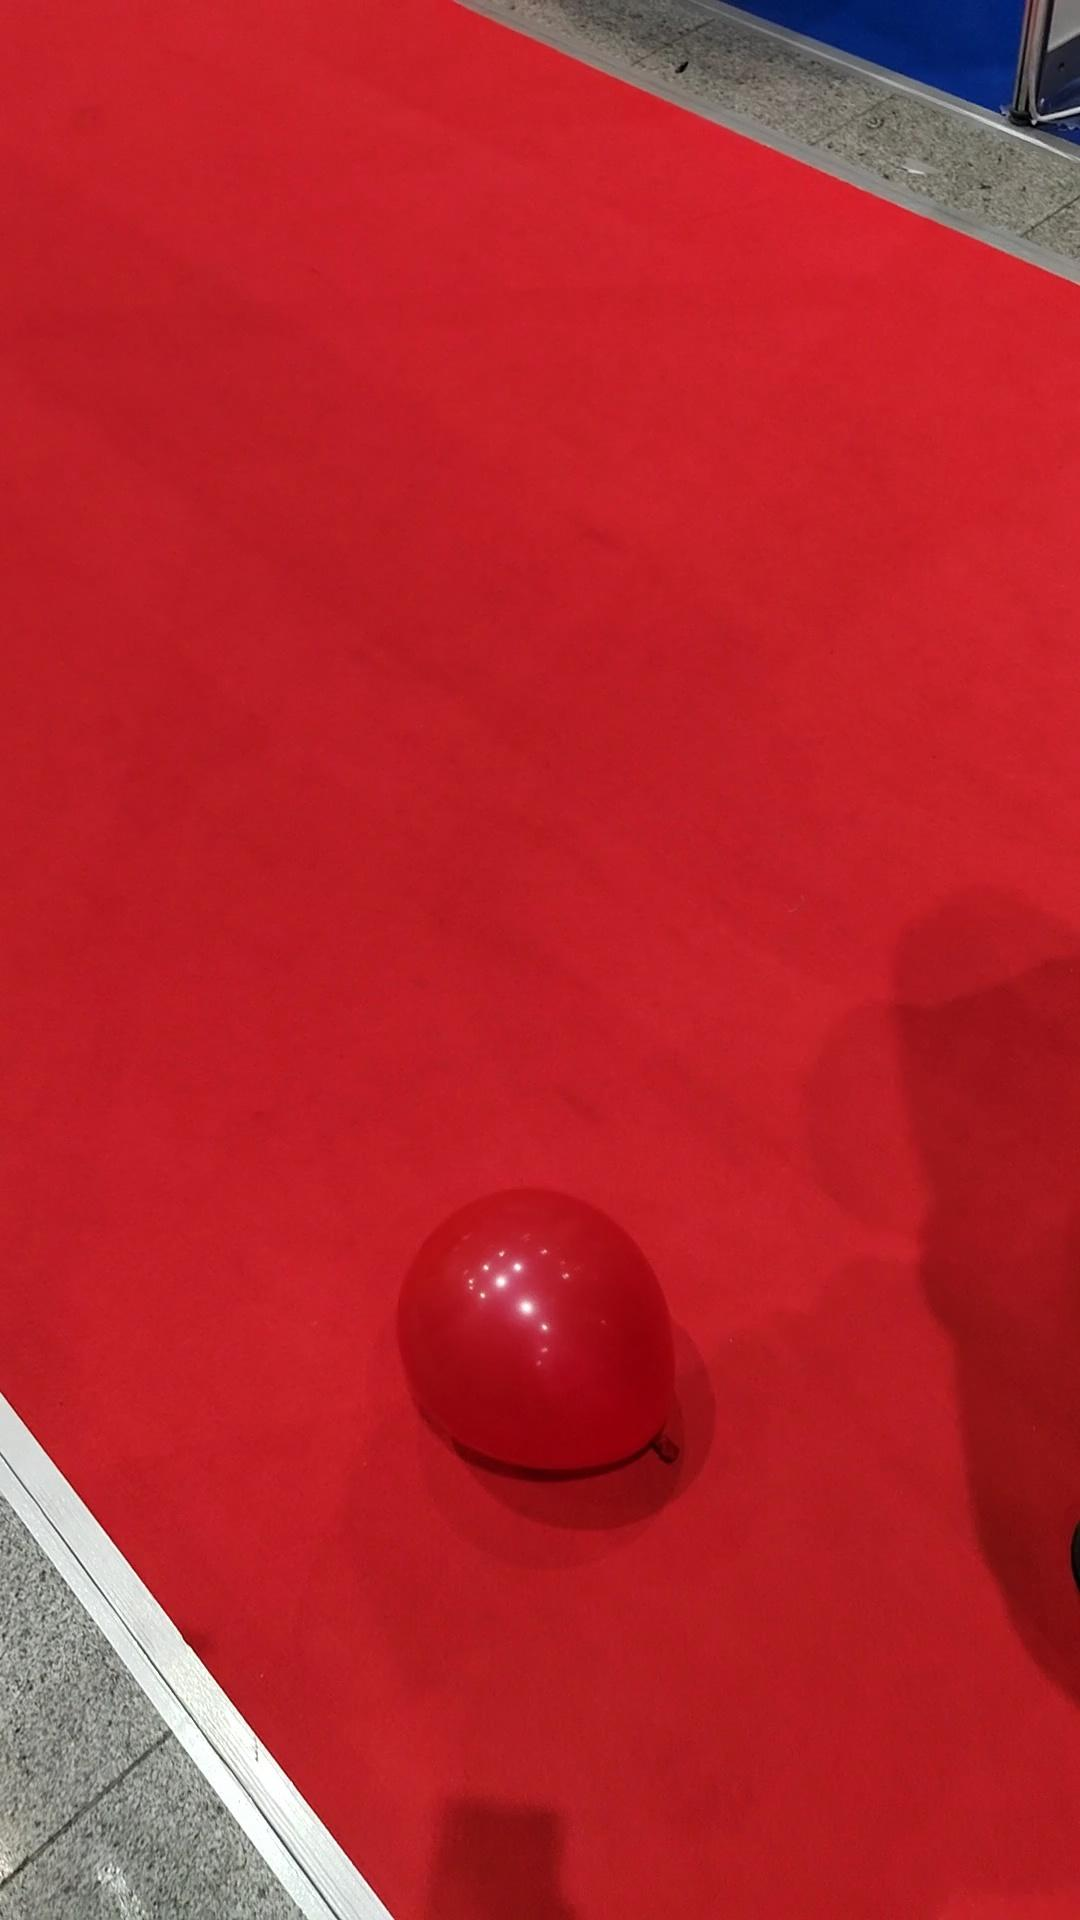red: (396, 1187, 676, 1478)
